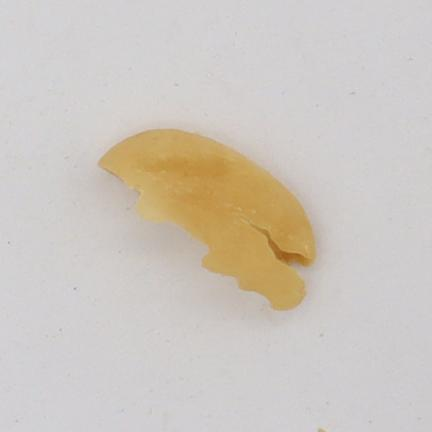parchment: (98, 130, 314, 309)
